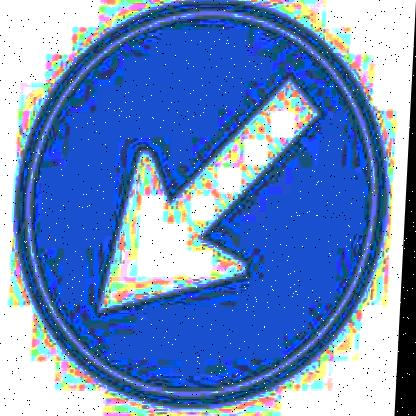Keep left: (0, 0, 405, 407)
